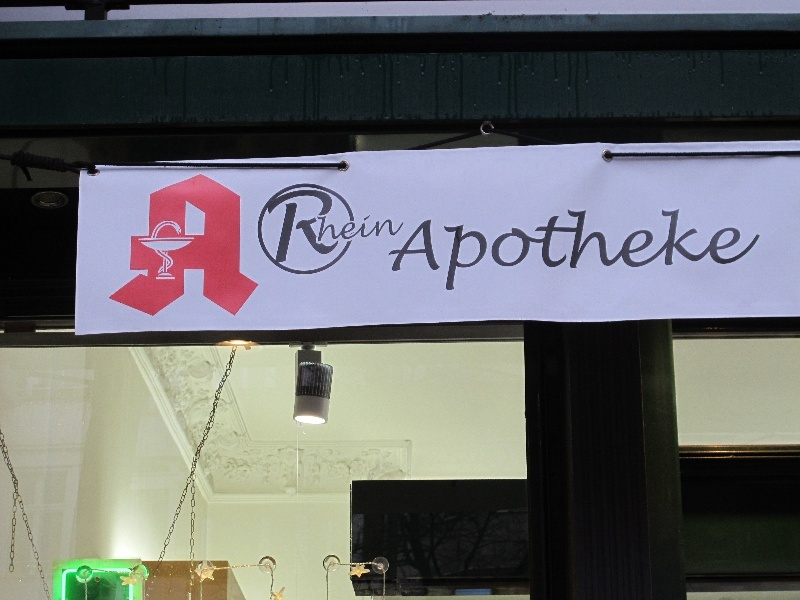text: (161, 173, 176, 318), (177, 173, 192, 318), (193, 173, 208, 318), (209, 173, 224, 318), (225, 173, 240, 318), (241, 173, 256, 318), (257, 173, 267, 318), (385, 198, 400, 293), (401, 198, 416, 293), (417, 198, 432, 293), (433, 198, 448, 293), (449, 198, 464, 293), (465, 198, 480, 293), (481, 198, 496, 293), (497, 198, 512, 293), (513, 198, 528, 293), (529, 198, 544, 293), (545, 198, 560, 293), (561, 198, 576, 293), (577, 198, 592, 293), (593, 198, 608, 293), (609, 198, 624, 293), (625, 198, 640, 293), (641, 198, 656, 293), (657, 198, 672, 293), (673, 198, 688, 293), (689, 198, 704, 293), (705, 198, 720, 293), (721, 198, 736, 293), (737, 198, 752, 293), (273, 188, 288, 267), (289, 188, 304, 267), (305, 188, 320, 267), (321, 188, 336, 267), (337, 188, 352, 267), (353, 188, 368, 267), (369, 188, 384, 267), (385, 188, 400, 267), (753, 198, 764, 293), (153, 173, 160, 318), (264, 188, 272, 267), (401, 188, 407, 267), (381, 198, 384, 293)
